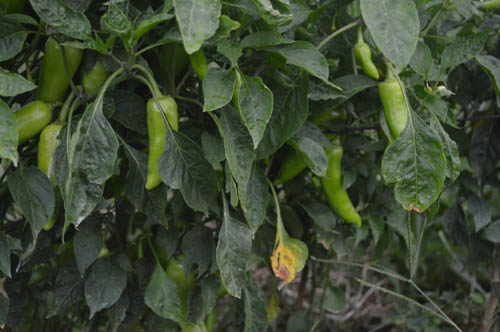ChiliPepper: (270, 119, 328, 197), (318, 140, 367, 230), (141, 93, 181, 199), (30, 32, 84, 110), (34, 122, 68, 234), (374, 74, 415, 150), (164, 257, 198, 330), (7, 98, 51, 149), (352, 38, 382, 80)
